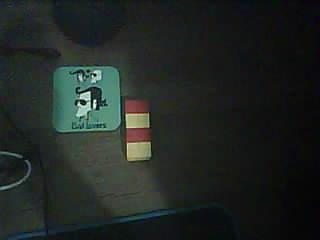lego: (123, 99, 152, 161)
